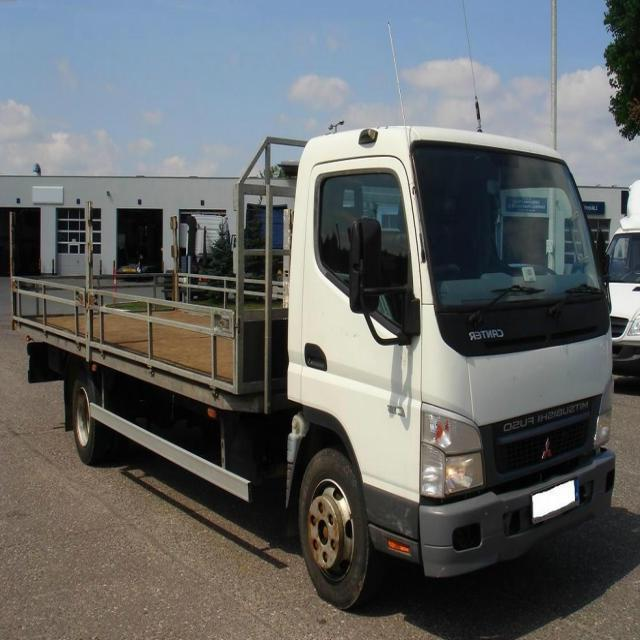truck: (12, 128, 616, 609)
